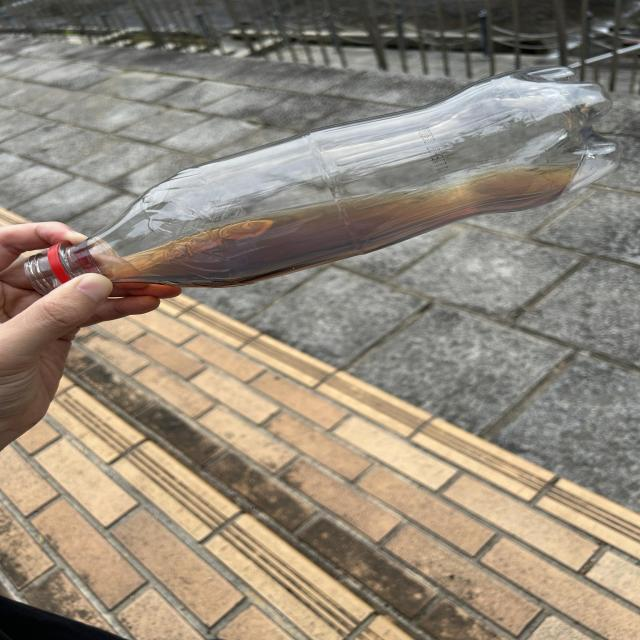low: (24, 67, 620, 294)
